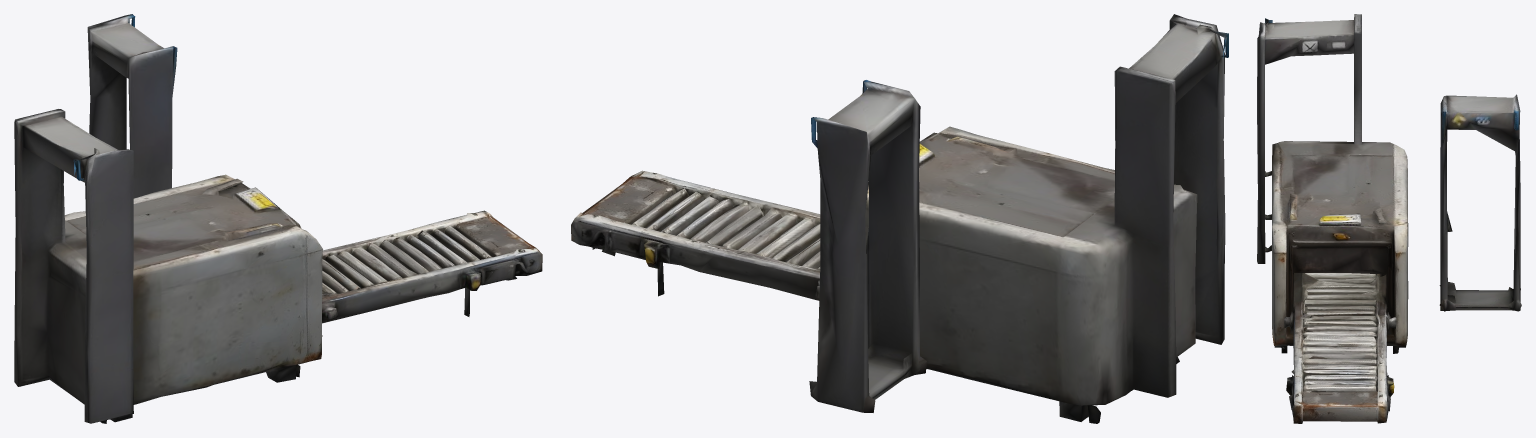
Rendered from ap_scanner.glb.
3 renders of one model, left to right at view 1: azimuth 30°, elevation 25°; view 2: azimuth 150°, elevation 25°; view 3: azimuth 270°, elevation 25°, orthographic. The views are drawn at different scales.
Parts seen in each view (by area): view 1: tripo_node_e359d36f-be7e-498d-81ce-3decd8f37a93; view 2: tripo_node_e359d36f-be7e-498d-81ce-3decd8f37a93; view 3: tripo_node_e359d36f-be7e-498d-81ce-3decd8f37a93.
Part boxes in pixels (box(x1,y1,x2,y2)): tripo_node_e359d36f-be7e-498d-81ce-3decd8f37a93: box(14, 14, 542, 423); tripo_node_e359d36f-be7e-498d-81ce-3decd8f37a93: box(571, 14, 1228, 423); tripo_node_e359d36f-be7e-498d-81ce-3decd8f37a93: box(1257, 14, 1521, 423).
Size of the model in its own units: 1 by 0.556 by 0.5493.
1 material, 1 textured.
